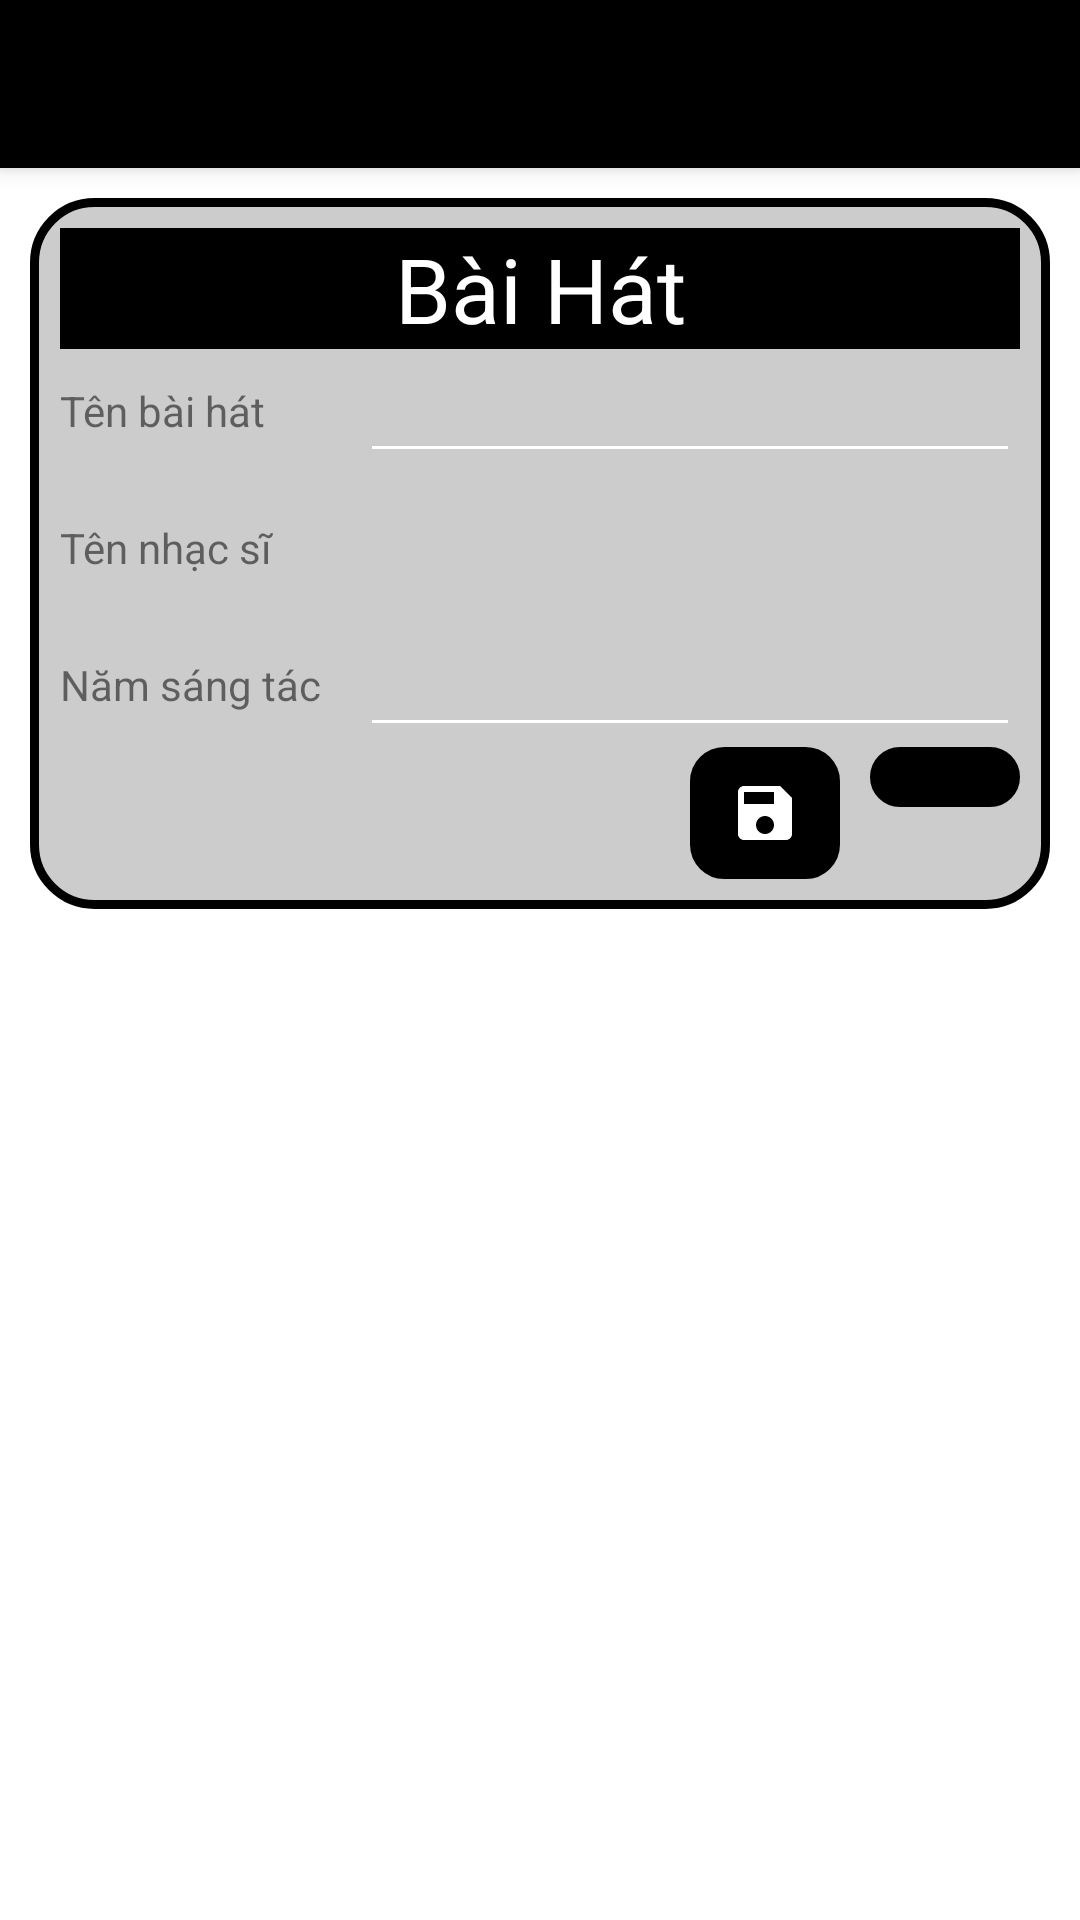

Named icons in this screenshot (1080×1920) and their centers, point (x, y):
save: point (765, 813)
